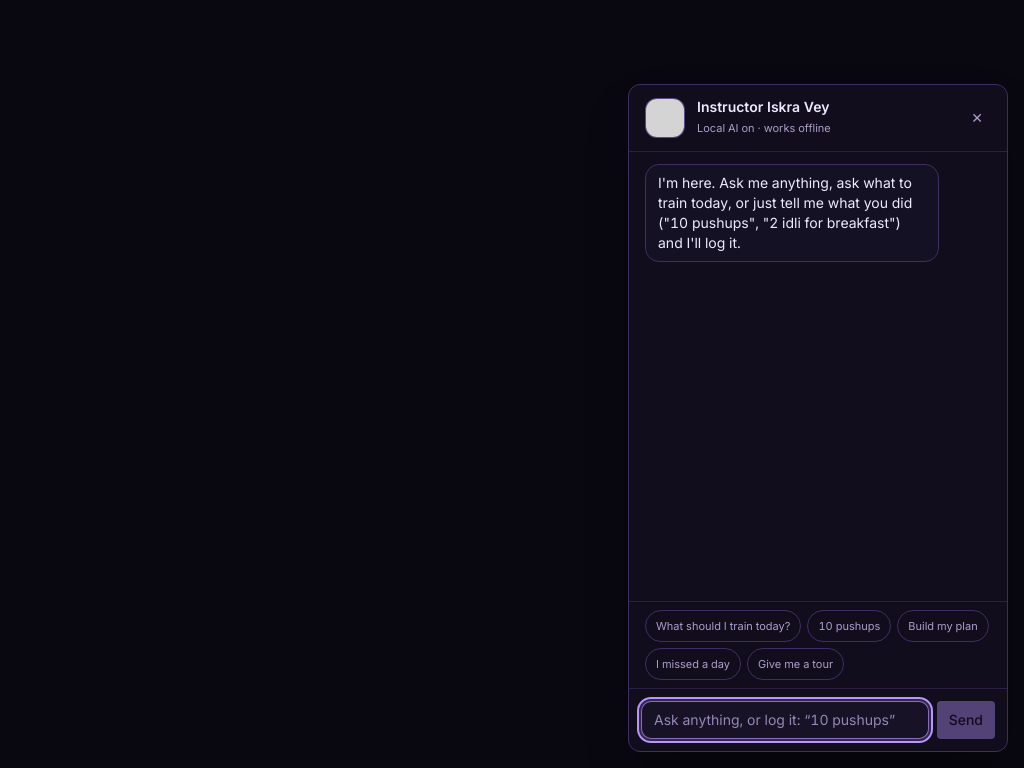
Test: TrainerChat › shows why a rule-based answer stood in for the model
Step 1. Type "meaning of life" into the field named "Message the trainer" → (785, 720), box [641,701,929,739]
Then press Enter
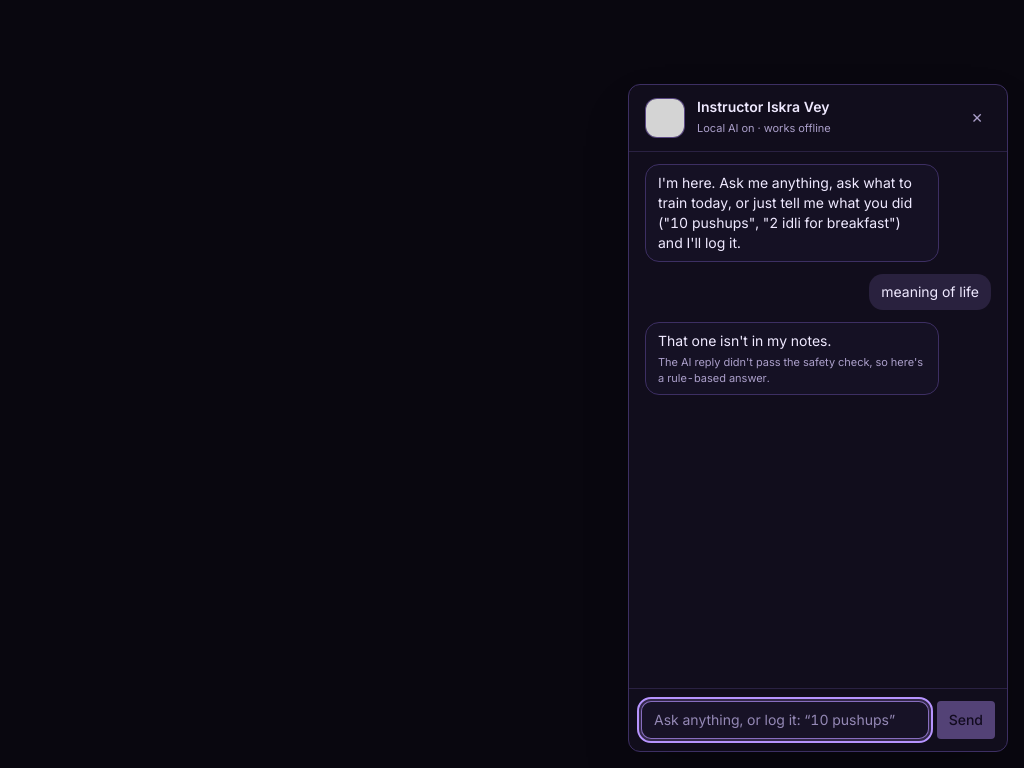
Expected: the text "The AI reply didn't pass the safety check, so here's a rule-based answer." is shown, [658,355,926,386]
